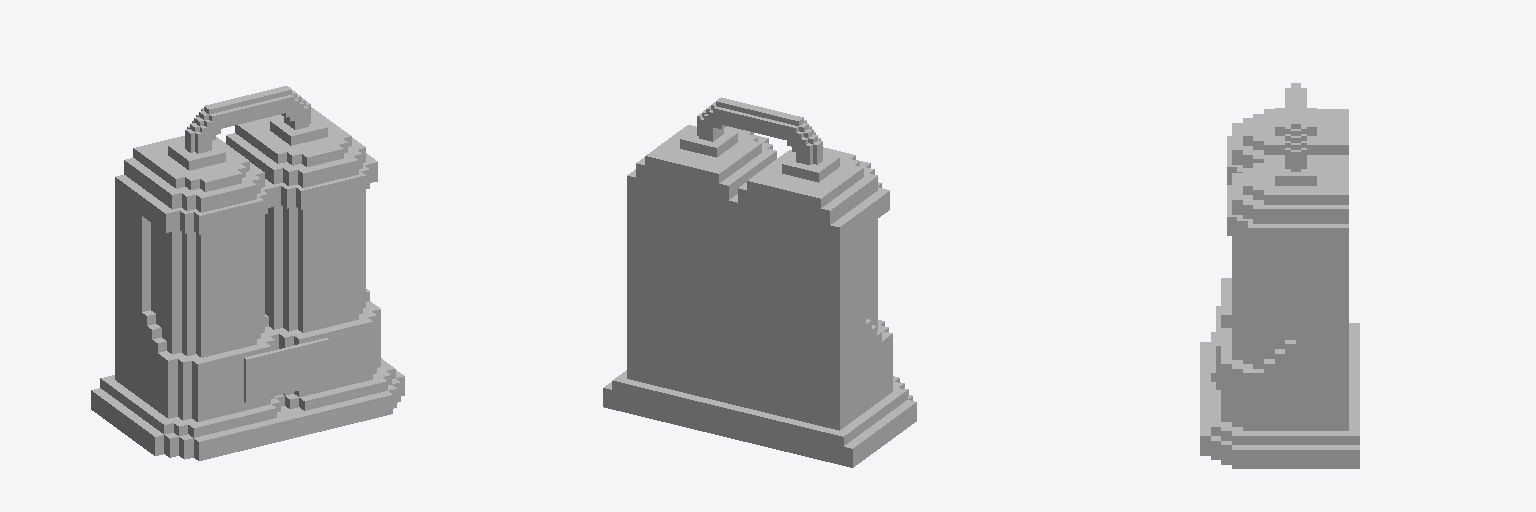
Rendered from clone Kit Box.obj.
3 renders of one model, left to right at view 1: azimuth 30°, elevation 25°; view 2: azimuth 150°, elevation 25°; view 3: azimuth 270°, elevation 25°, orthographic.
Visible parts, largest first — view 1: cloneKitBox; view 2: cloneKitBox; view 3: cloneKitBox.
Boxes of the visible parts, x1=… form: cloneKitBox: x1=91, y1=86, x2=404, y2=460; cloneKitBox: x1=603, y1=97, x2=916, y2=467; cloneKitBox: x1=1200, y1=83, x2=1359, y2=468.
Size of the model in its own units: 54 by 63 by 30.